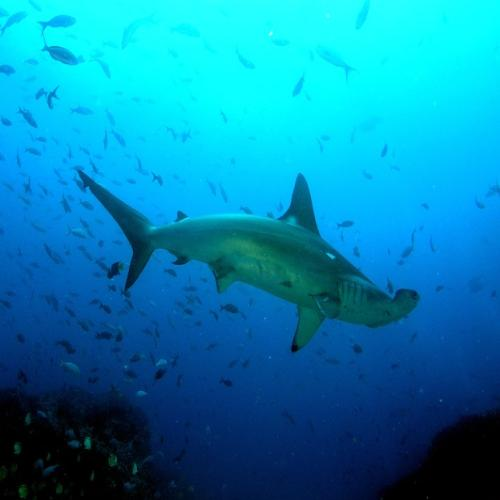shark-endangered: (76, 166, 420, 354)
